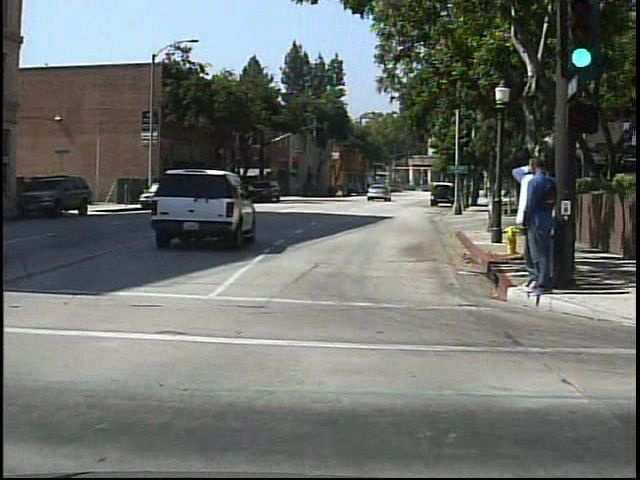person: (507, 156, 546, 295), (519, 153, 554, 299), (334, 180, 346, 198)
